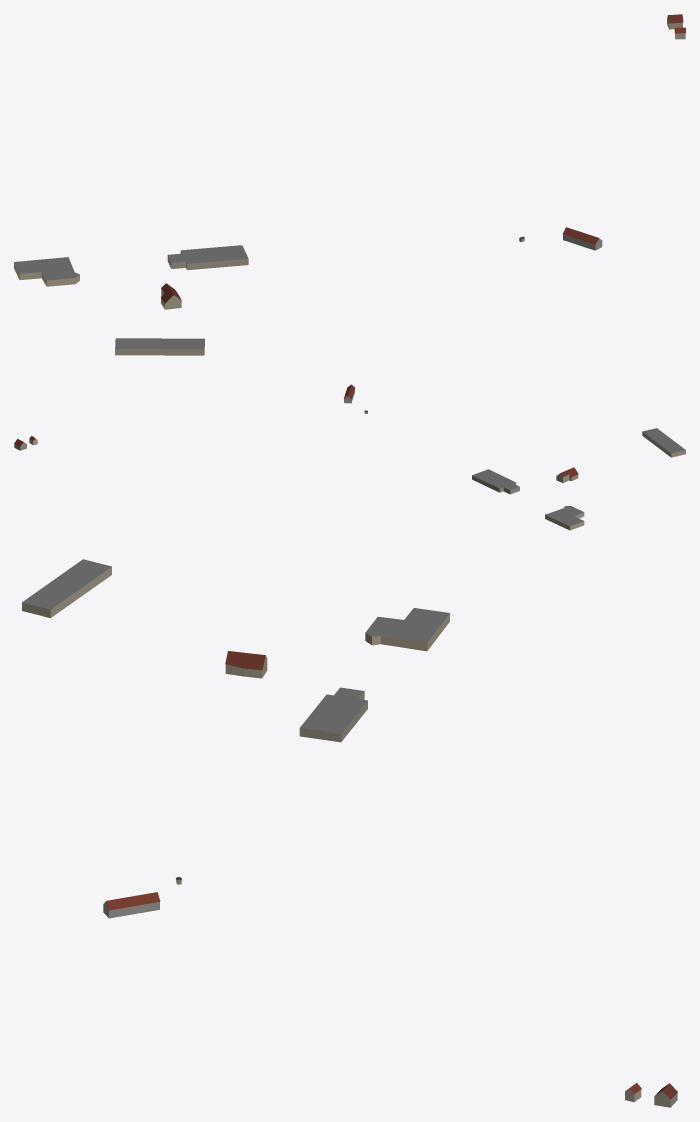
3 renders of one model, top to bottom at view 1: azimuth 30°, elevation 25°; view 2: azimuth 150°, elevation 25°; view 3: azimuth 270°, elevation 25°, orthographic. The views are drawn at different scales.
Parts seen in each view (by area): view 1: buildings; view 2: buildings; view 3: buildings.
Part boxes in pixels (x1=…): buildings: x1=14, y1=14, x2=685, y2=355; buildings: x1=14, y1=384, x2=685, y2=530; buildings: x1=22, y1=559, x2=677, y2=1107.
Bounding box in the file's own units: 780 × 27.43 × 422.
